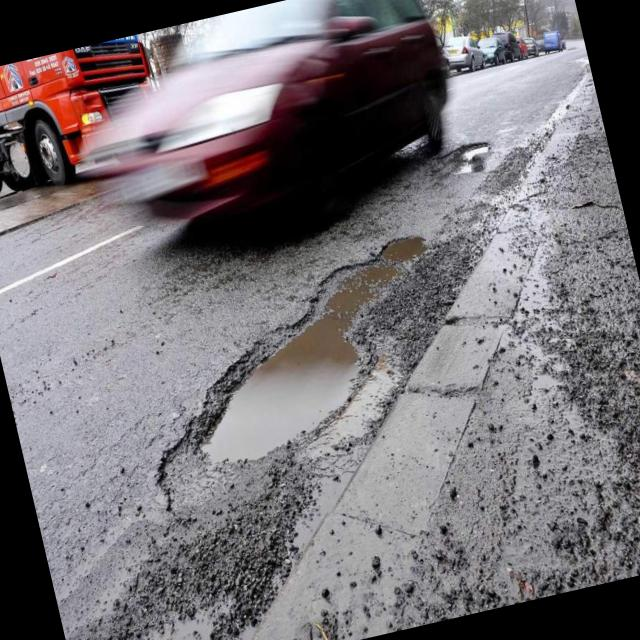Potholes: (108, 218, 504, 554), (434, 127, 505, 198)
